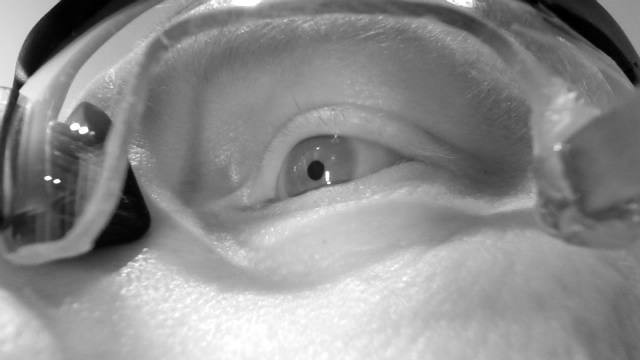pupil: (306, 160, 326, 182)
